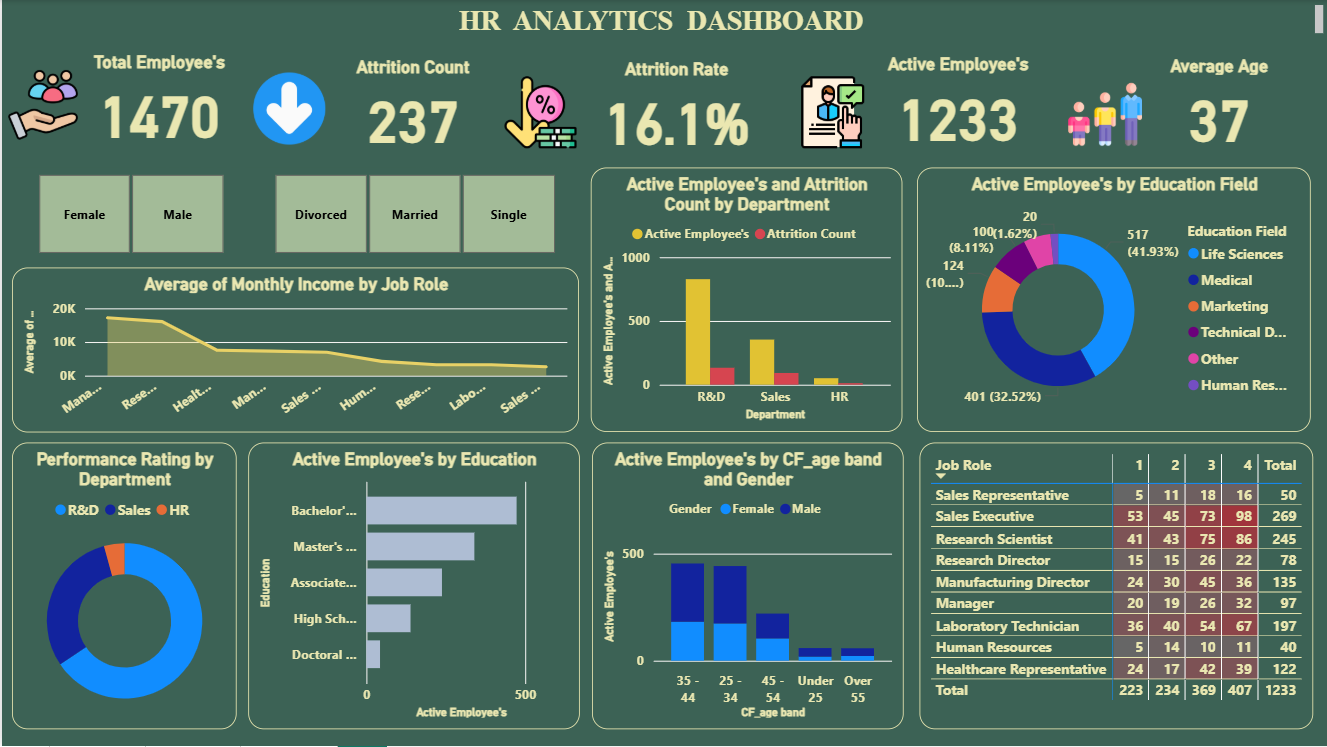

What the dashboard file says about the page in this screenshot:
{"tool":"powerbi","page":{"name":"Page 4","canvas":[1280,720],"ordinal":3},"visuals":[{"type":"card","title":"Total Employee''s","fields":{"Values":["Sum(HR data.Employee Count)"]},"box":[69,49.2,166.5,95.3],"z":0},{"type":"card","title":"Attrition Count","fields":{"Values":["Sum(HR data.Attrition Count)"]},"box":[314.2,54.9,166,94.7],"z":1000},{"type":"card","title":"Attrition Rate","fields":{"Values":["HR data.Attrition Rate"]},"box":[568.1,56.3,166,94.7],"z":2000},{"type":"card","title":"Active Employee''s","fields":{"Values":["HR data.Active Employee's"]},"box":[839.7,51.9,166.5,95.3],"z":3000},{"type":"card","title":"Average Age","fields":{"Values":["Avg(HR data.Age)"]},"box":[1092.3,53.5,166,94.7],"z":4000},{"type":"clusteredColumnChart","fields":{"Category":["HR data.Department"],"Y":["HR data.Active Employee's","Sum(HR data.Attrition Count)"]},"box":[568.1,161.9,300.5,255.2],"z":5000},{"type":"donutChart","fields":{"Category":["HR data.Education Field"],"Y":["HR data.Active Employee's"]},"box":[883.7,161.9,380.1,255.2],"z":6000},{"type":"columnChart","fields":{"Y":["HR data.Active Employee's"],"Category":["HR data.CF_age band"],"Series":["HR data.Gender"]},"box":[569.5,426.8,300.5,277.2],"z":7000},{"type":"pivotTable","fields":{"Rows":["HR data.Job Role"],"Columns":["HR data.Job Satisfaction"],"Values":["HR data.Active Employee's"]},"box":[885.1,426.8,380.1,277.2],"z":8000},{"type":"donutChart","fields":{"Category":["HR data.Department"],"Y":["Sum(HR data.Performance Rating)"]},"box":[9.6,426.8,216.8,277.2],"z":9000},{"type":"clusteredBarChart","fields":{"Category":["HR data.Education"],"Y":["HR data.Active Employee's"]},"box":[237.4,426.8,319.7,277.2],"z":10000},{"type":"areaChart","fields":{"Category":["HR data.Job Role"],"Y":["Avg(HR data.Monthly Income)"]},"box":[9.6,258,547.5,159.2],"z":11000},{"type":"slicer","fields":{"Values":["HR data.Gender"]},"box":[9.6,161.9,227.8,89.2],"z":12000},{"type":"slicer","fields":{"Values":["HR data.Marital Status"]},"box":[237.4,161.9,319.7,89.2],"z":13000},{"type":"textbox","box":[0,0,1280.3,38.4],"z":14000},{"type":"image","box":[0,61.5,79.6,79.6],"z":15000},{"type":"image","box":[480.2,68.8,79.6,79.6],"z":16000},{"type":"image","box":[237.7,65.1,79.6,79.6],"z":17000},{"type":"image","box":[760.1,68.8,79.6,79.6],"z":18000},{"type":"image","box":[1024.3,70,80.8,80.8],"z":19000}]}

Visuals, with their boxes in screenshot pixels (x1, y1, x2, y2), scaled from the page's 1280x720 canvas onto the 1327x747 screenshot:
"Total Employee''s" card: Rect(72, 51, 244, 150)
"Attrition Count" card: Rect(326, 57, 498, 155)
"Attrition Rate" card: Rect(589, 58, 761, 157)
"Active Employee''s" card: Rect(871, 54, 1043, 153)
"Average Age" card: Rect(1132, 56, 1305, 154)
clusteredColumnChart - HR data.Department x HR data.Active Employee's: Rect(589, 168, 900, 433)
donutChart - HR data.Education Field x HR data.Active Employee's: Rect(916, 168, 1310, 433)
columnChart - HR data.Active Employee's x HR data.CF_age band: Rect(590, 443, 902, 730)
pivotTable - HR data.Job Role x HR data.Job Satisfaction: Rect(918, 443, 1312, 730)
donutChart - HR data.Department x Sum(HR data.Performance Rating): Rect(10, 443, 235, 730)
clusteredBarChart - HR data.Education x HR data.Active Employee's: Rect(246, 443, 578, 730)
areaChart - HR data.Job Role x Avg(HR data.Monthly Income): Rect(10, 268, 578, 433)
slicer - HR data.Gender: Rect(10, 168, 246, 261)
slicer - HR data.Marital Status: Rect(246, 168, 578, 261)
textbox: Rect(0, 0, 1326, 40)
image: Rect(0, 64, 83, 146)
image: Rect(498, 71, 580, 154)
image: Rect(246, 68, 329, 150)
image: Rect(788, 71, 871, 154)
image: Rect(1062, 73, 1146, 156)
